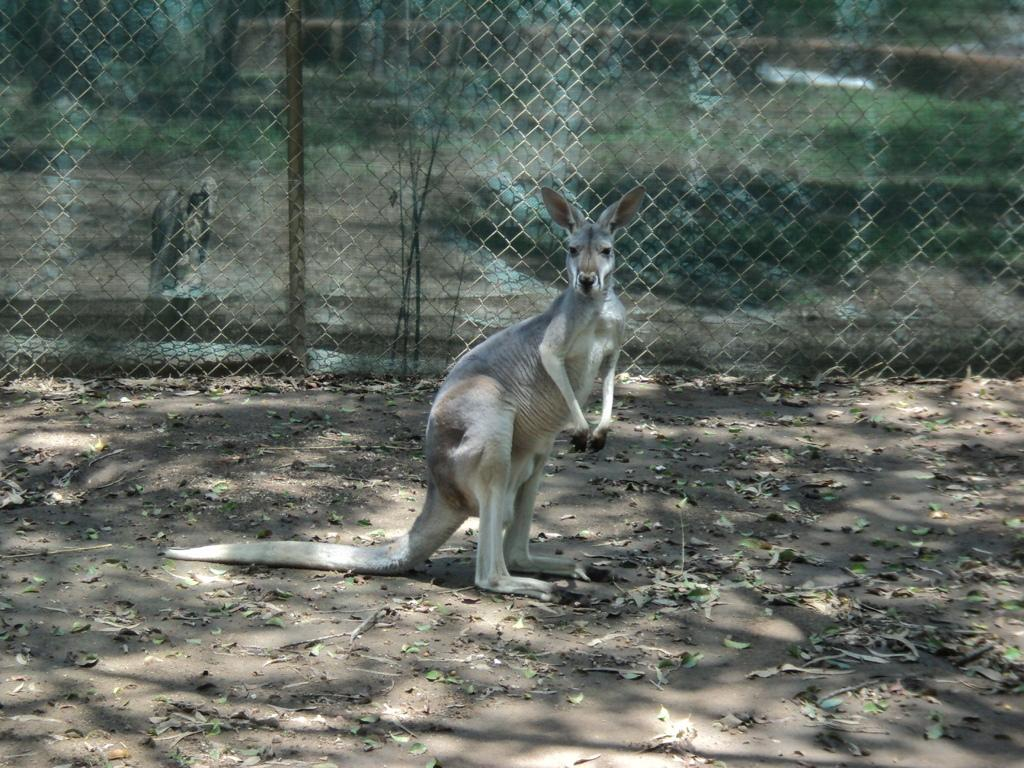kangaroo: (165, 186, 647, 604)
